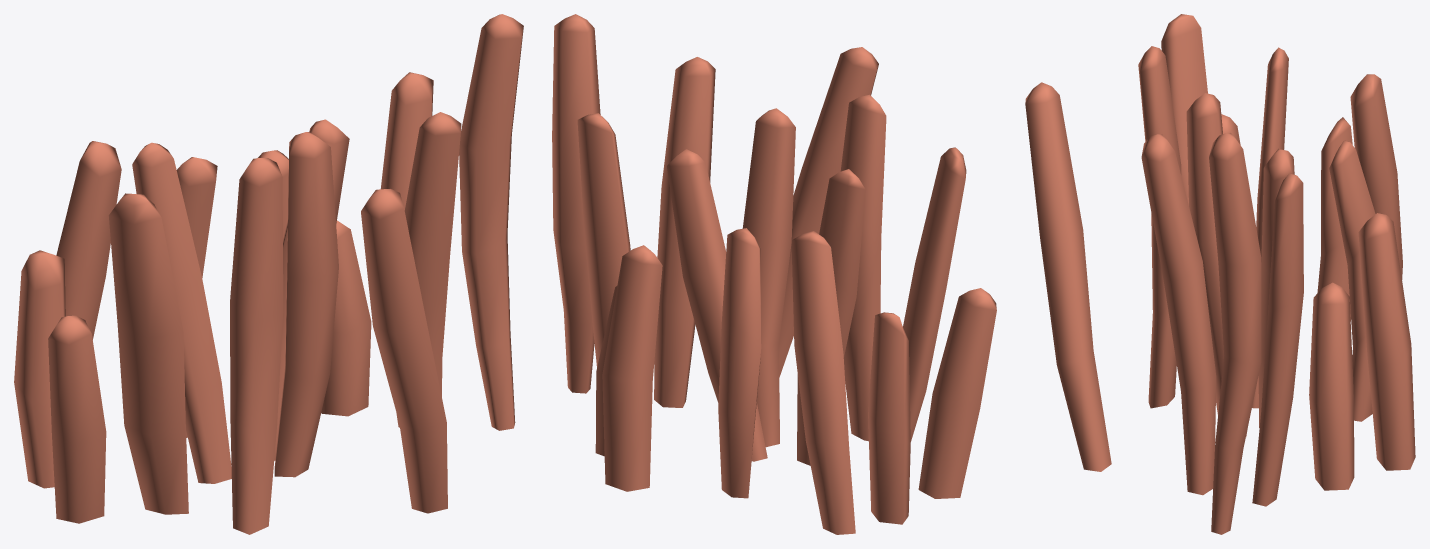
File: coral_anemone_A_light.fbx
3 views of the same model, side by side, from view 1: azimuth 30°, elevation 25°; view 2: azimuth 150°, elevation 25°; view 3: azimuth 270°, elevation 25° (orthographic). The views are drawn at different scales.
Visible parts, largest first — view 1: coral_anemone_A_light; view 2: coral_anemone_A_light; view 3: coral_anemone_A_light.
Boxes of the visible parts, <box> form: coral_anemone_A_light: <box>14,14,523,534</box>; coral_anemone_A_light: <box>552,14,996,534</box>; coral_anemone_A_light: <box>1025,14,1415,534</box>.
Size of the model in its own units: 52.95 by 44.47 by 38.64.
